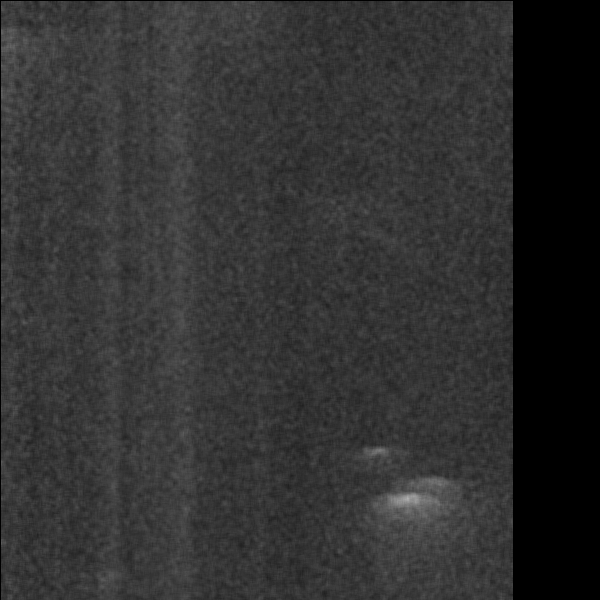spark: (398, 3, 455, 73), (447, 86, 478, 161), (264, 184, 304, 230)
